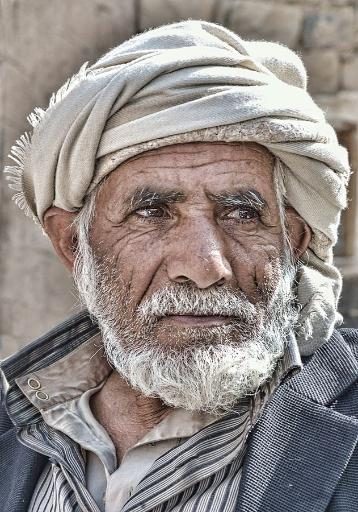left_eye: (222, 207, 268, 228)
left_lip_corner: (224, 310, 243, 329)
right_eye: (133, 200, 178, 226)
right_lip_corner: (155, 308, 177, 327)
